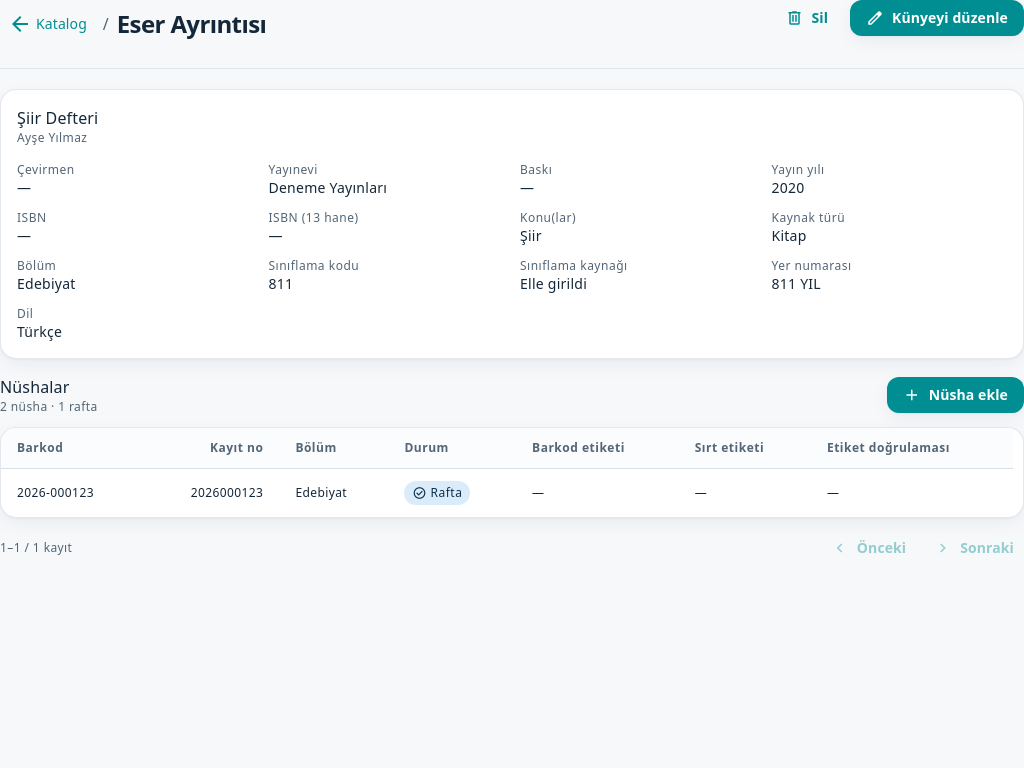
Scenario: Eser Ayrıntısı — kayıp, hasar ve onarım › raftaki nüshada onarım, hasar ve kayıp işlemleri; açık dosya ve teslim sorulur
The width and height of the screenshot is (1024, 768).
Expected: the text "2026-000123" is shown, [1,468,143,517]
Click the button with aria-label "2026-000123 numaralı nüshayı düzenle".
click(55, 492)  # box [1,468,1013,517]
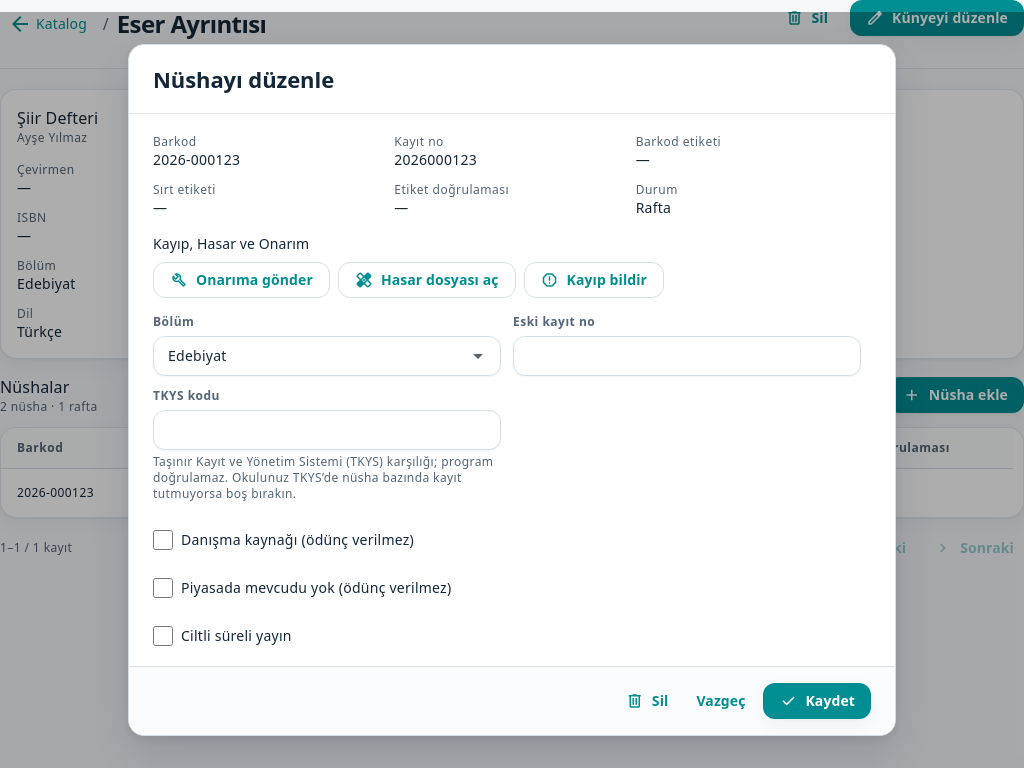
Expected: the button "Onarıma gönder" is shown, [153,262,330,298]
Expected: the button "Hasar dosyası aç" is shown, [338,262,516,298]
Expected: the button "Kayıp bildir" is shown, [524,262,664,298]
